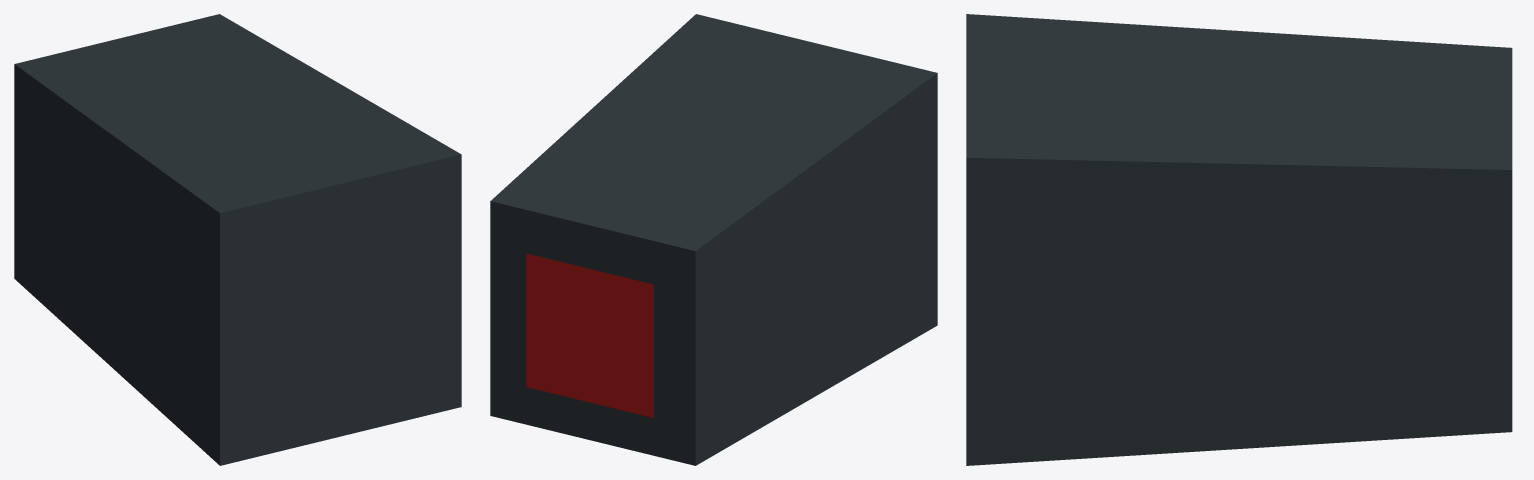
3 renders of one model, left to right at view 1: azimuth 30°, elevation 25°; view 2: azimuth 150°, elevation 25°; view 3: azimuth 270°, elevation 25°, orthographic. The views are drawn at different scales.
Parts seen in each view (by area): view 1: mount; view 2: mount; view 3: mount.
Boxes of the visible parts, x1=… form: mount: x1=14, y1=14, x2=461, y2=465; mount: x1=490, y1=14, x2=937, y2=465; mount: x1=966, y1=14, x2=1512, y2=465.
Bounding box in the file's own units: 1.41 × 1.41 × 2.3.
